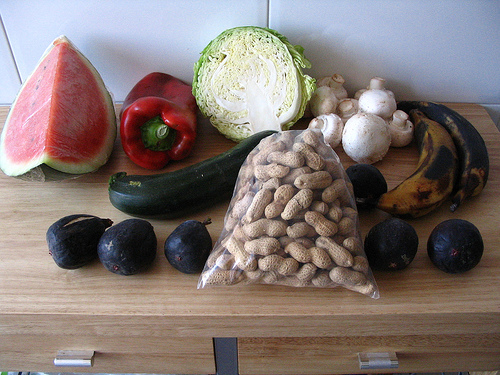cabbage: (191, 24, 315, 142)
